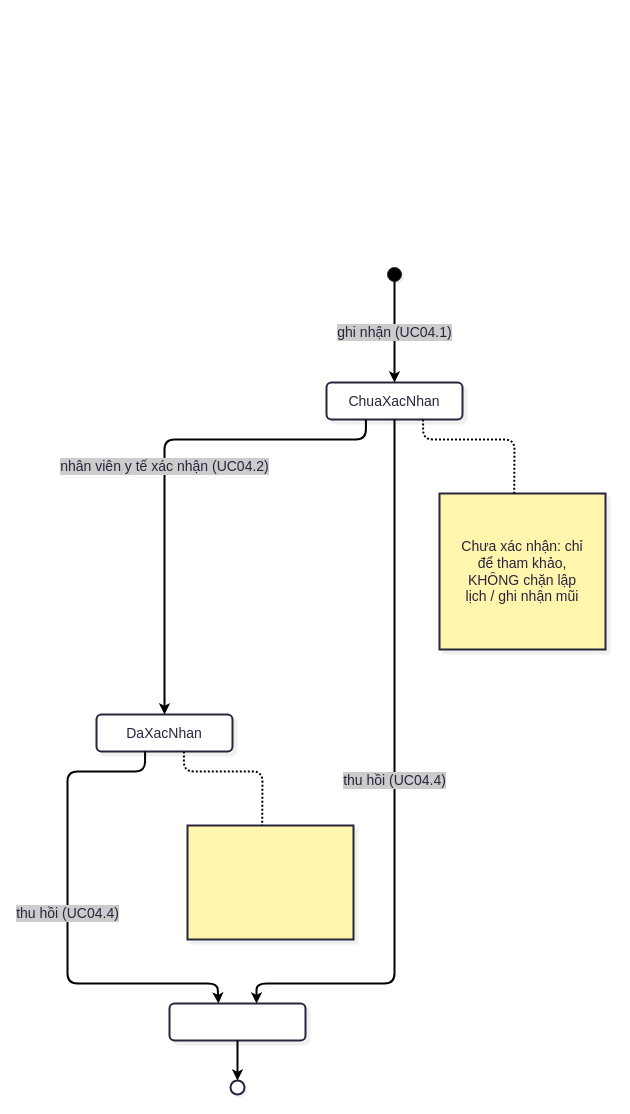
Some shapes in this 630 by 1114 pixel diagram are drawn without their labels. Here are the shapes that lost their labels. From the top down, the centre of each, then its label:
At [272,884]: "Chặn lập lịch và ghi nhận mũi của vaccine tương ứng".
At [239,1023]: "DaThuHoi".
